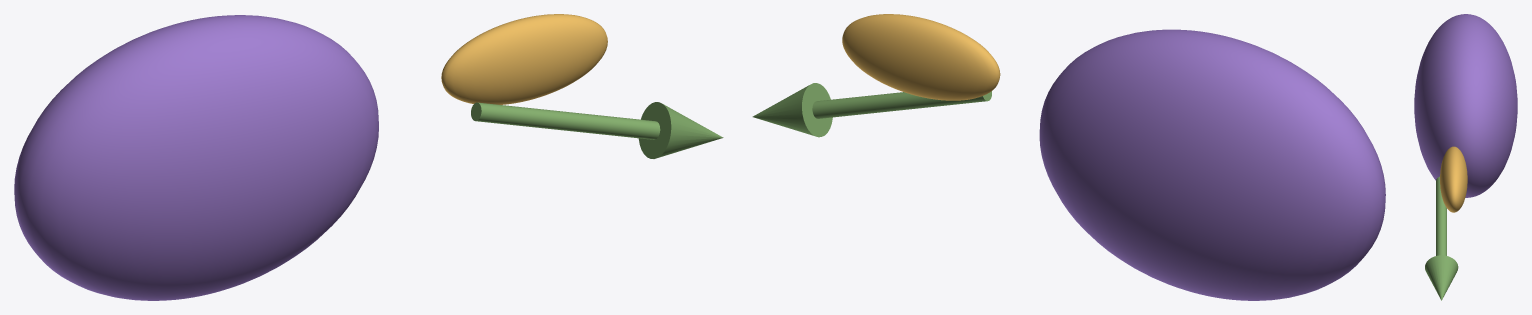
Rendered from biology-biochemistry-enzyme.glb.
3 views of the same model, side by side, from view 1: azimuth 30°, elevation 25°; view 2: azimuth 150°, elevation 25°; view 3: azimuth 270°, elevation 25° (orthographic). The views are drawn at different scales.
Visible parts, largest first — view 1: enzyme-body-active-site, substrate-fitting-piece, product-release-shaft, product-release-head; view 2: enzyme-body-active-site, substrate-fitting-piece, product-release-shaft, product-release-head; view 3: enzyme-body-active-site, substrate-fitting-piece, product-release-head, product-release-shaft.
Boxes of the visible parts, x1,y1,x2,y2 form: enzyme-body-active-site: (14,15,378,300); substrate-fitting-piece: (441,14,607,104); product-release-shaft: (471,102,660,139); product-release-head: (638,102,723,158); enzyme-body-active-site: (1039,29,1385,300); substrate-fitting-piece: (842,14,1000,100); product-release-shaft: (812,91,991,118); product-release-head: (752,83,832,137); enzyme-body-active-site: (1414,14,1517,197); substrate-fitting-piece: (1440,146,1467,212); product-release-head: (1425,255,1458,300); product-release-shaft: (1436,176,1446,255).
Size of what is drawn, in the model's own units: 1.51 by 0.5576 by 0.34.
